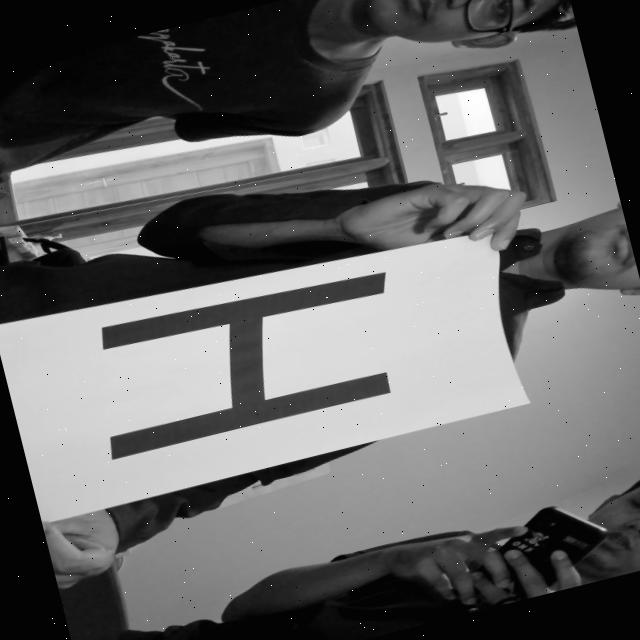h: (36, 244, 436, 484)
